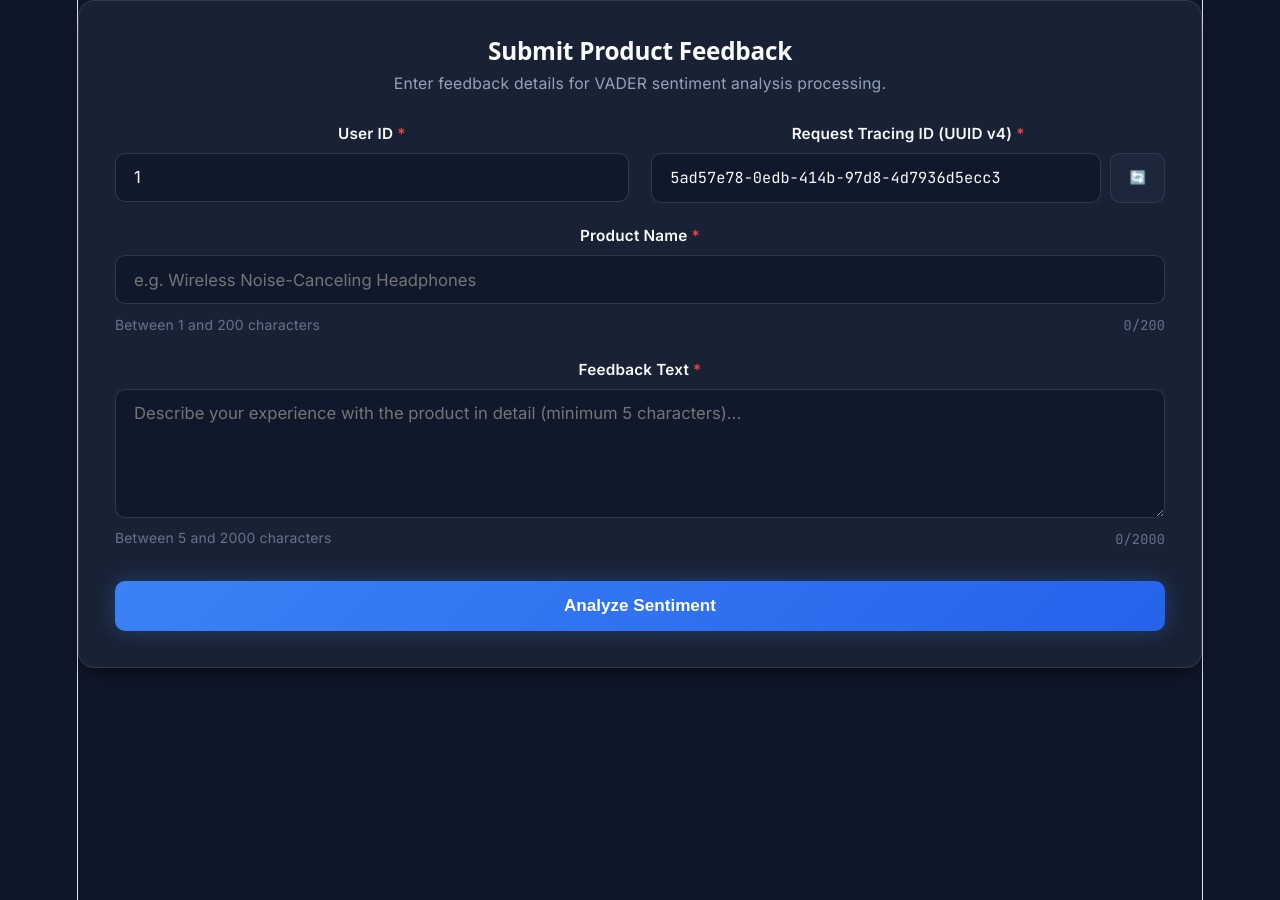
Test: <FeedbackForm /> Component › displays ErrorAlert when connection to backend server fails
Replace the text in the number field labelled "User ID *" with "42" at (372, 177), box [115,153,629,202]
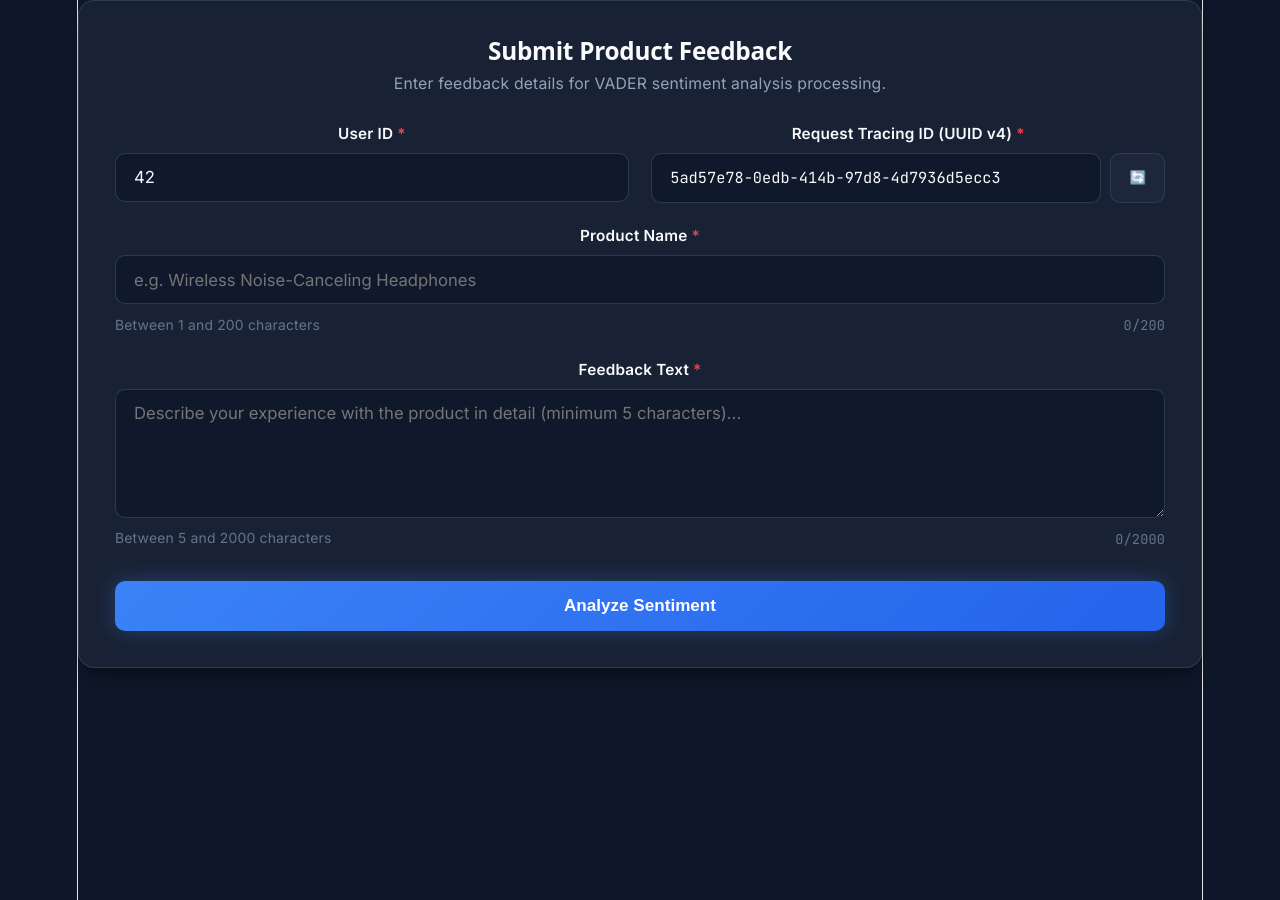
Type "Widget Pro" into the field labelled "Product Name *" at (640, 280), box [115,255,1165,304]
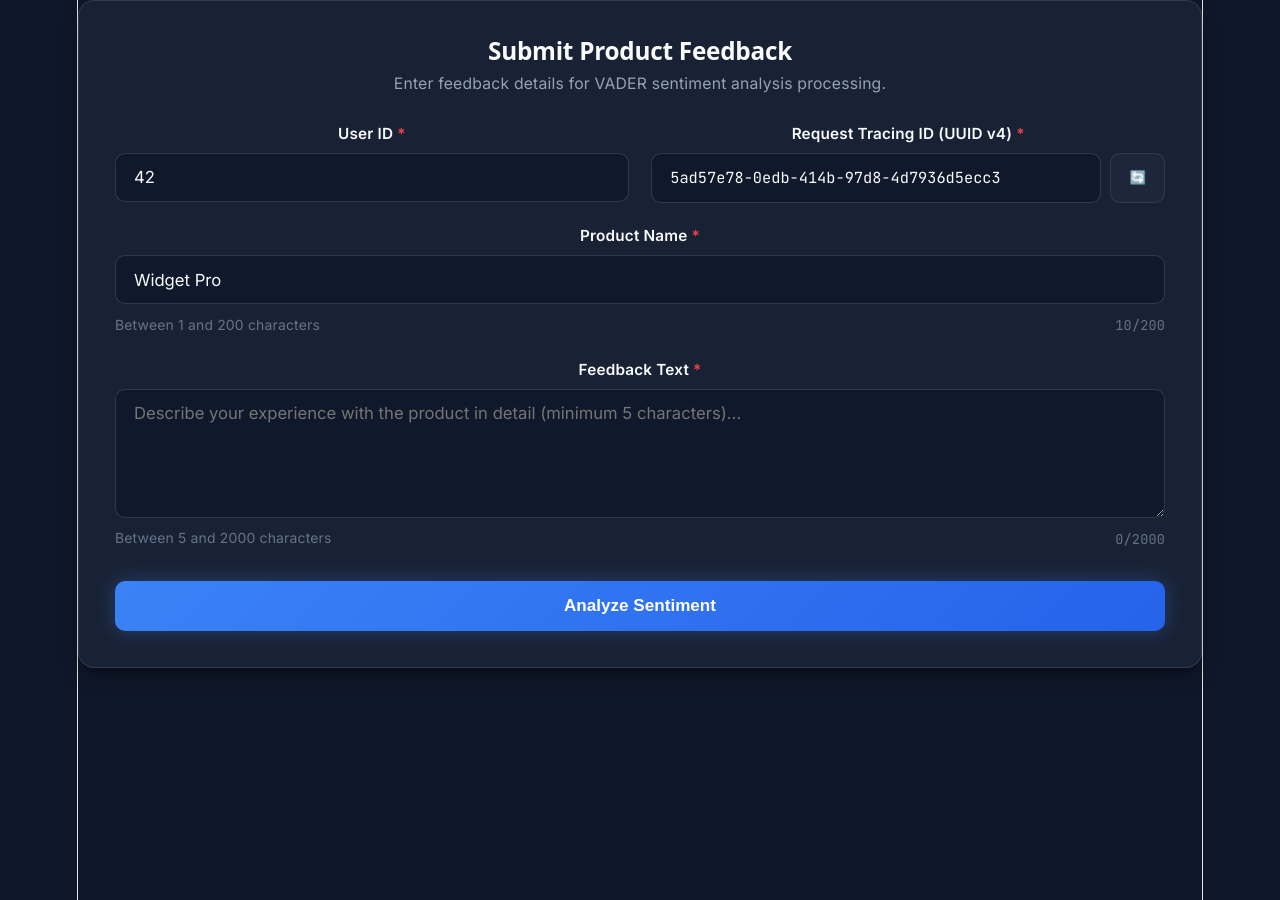
Replace the text in the text box labelled "Feedback Text *" with "Valid feedback text here." at (640, 453), box [115,389,1165,518]
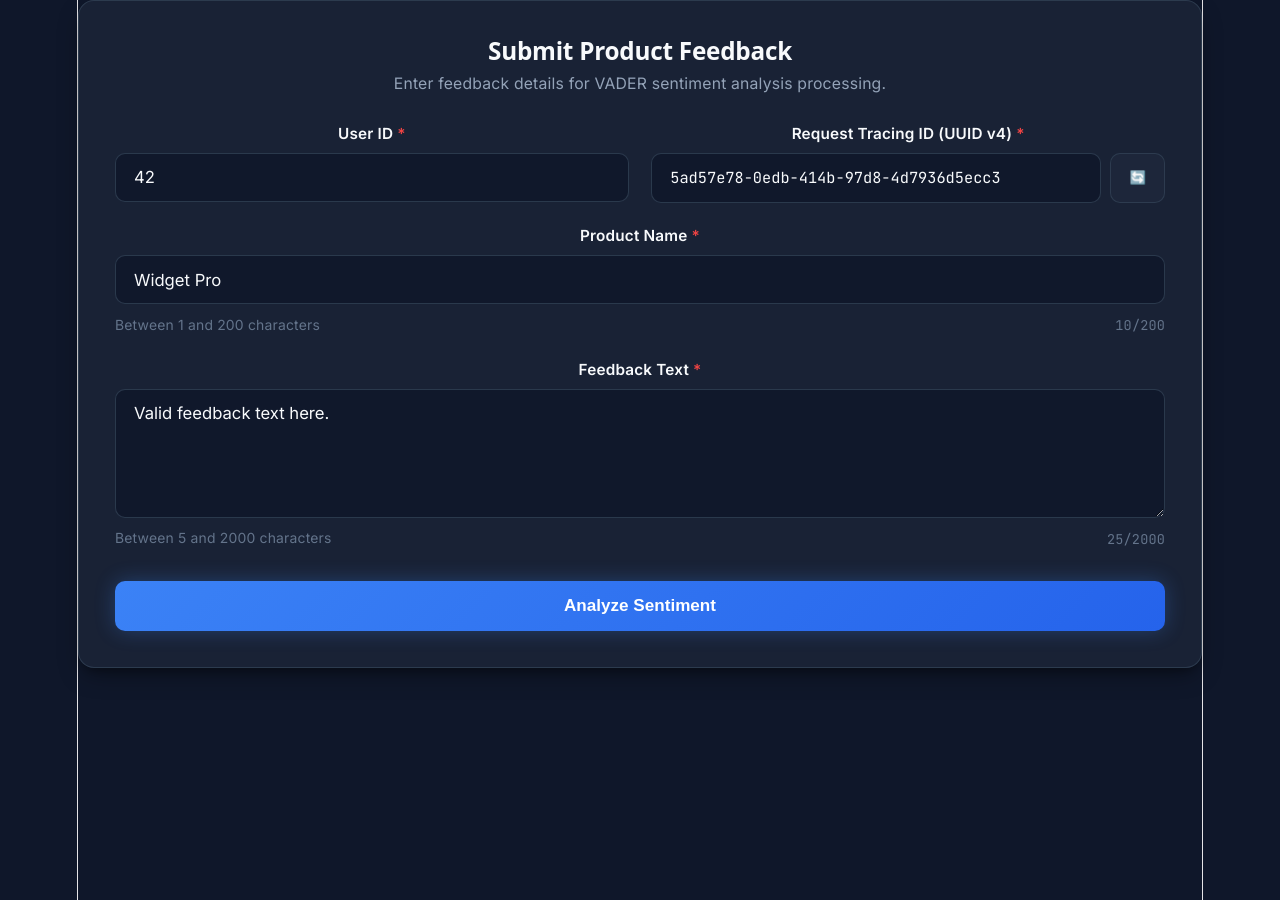
Click the button "Analyze Sentiment" at (640, 606), box [115,581,1165,632]
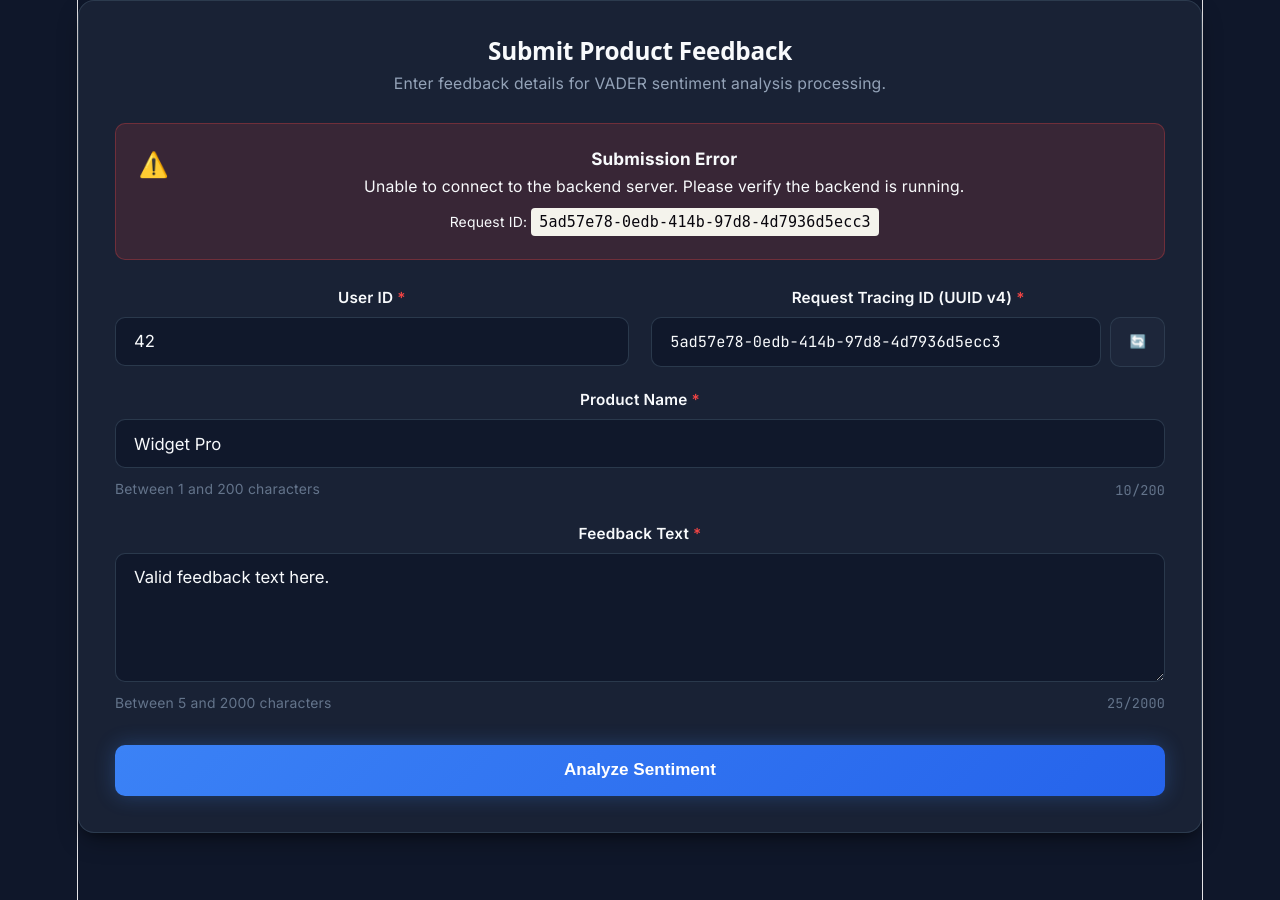
Expected: the text "Unable to connect to the backend server" is shown, [364,177,964,196]
